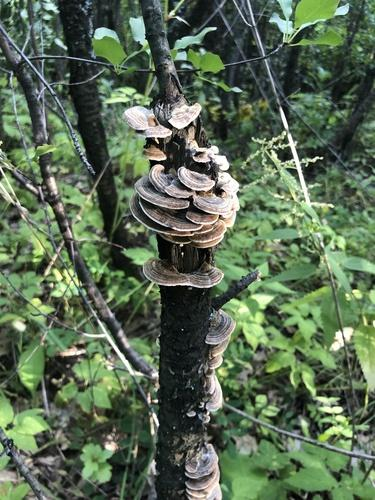Non-edible Mushroom: (121, 90, 241, 289)
